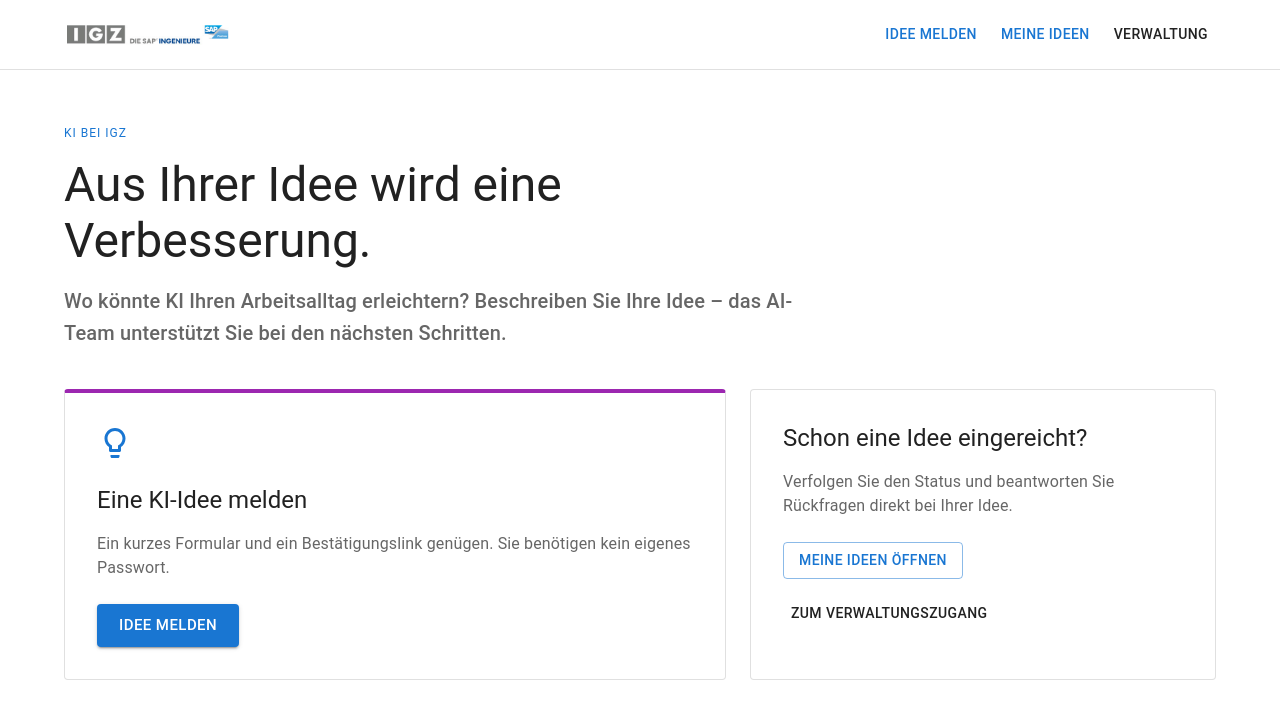
Test case: Separate public, employee and management entry points › shows the public landing page at / and navigates to the idea form
Expected: the heading "Aus Ihrer Idee wird eine Verbesserung." is shown, top-left (64, 156), bottom-right (562, 269)
Click the 1st link "Idee melden".
click(931, 34)  # box top-left (885, 26), bottom-right (977, 42)
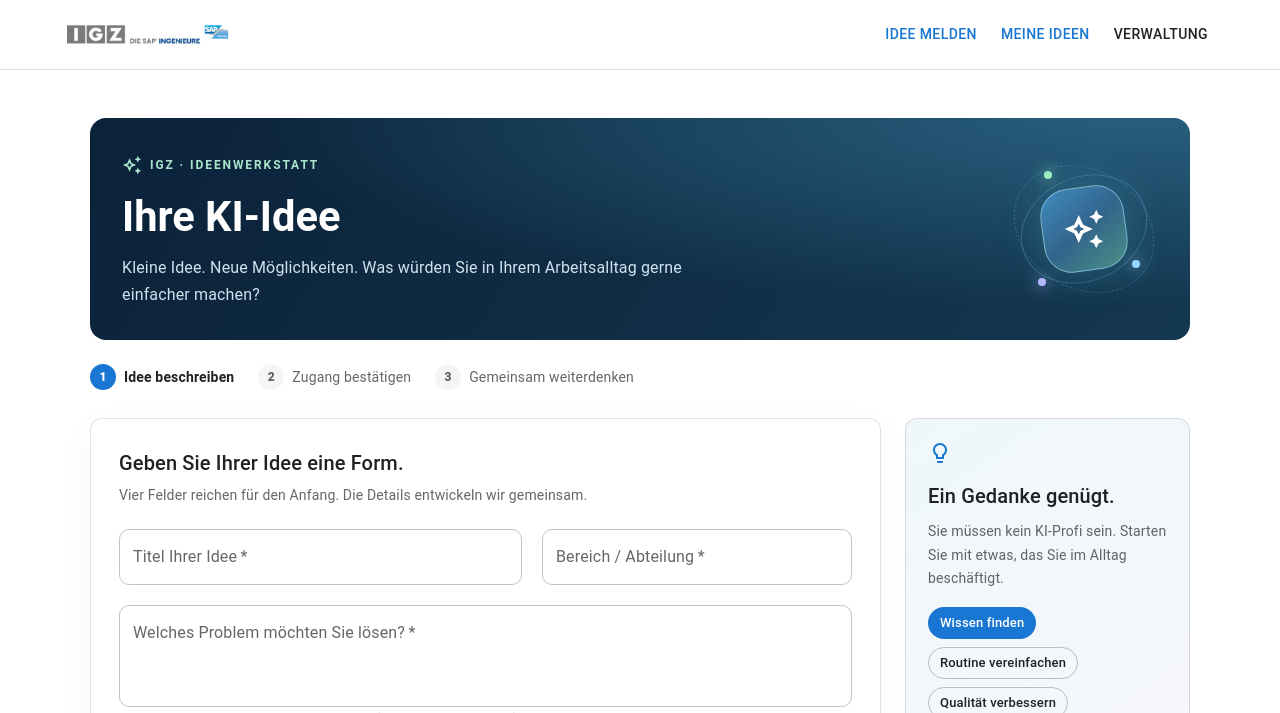
Expected: the heading "Ihre KI-Idee" is shown, top-left (122, 192), bottom-right (340, 241)
